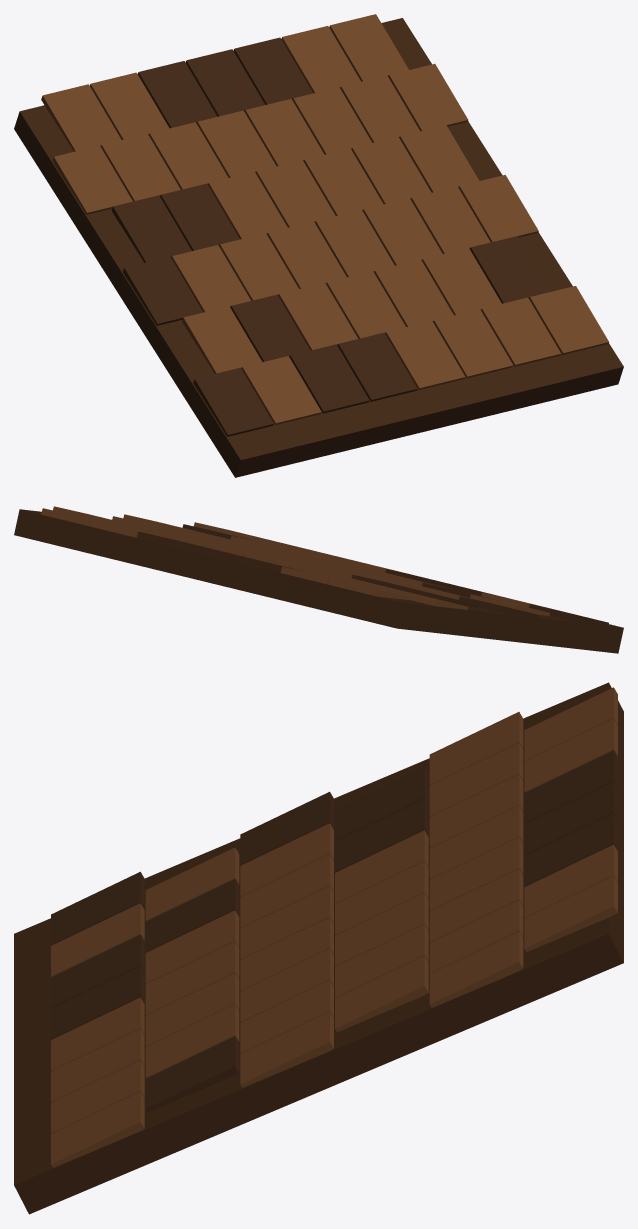
Rendered from SM_Roof_Shingle.obj.
The picture shows the model from 3 angles, top to bottom: view 1: azimuth 30°, elevation 25°; view 2: azimuth 150°, elevation 25°; view 3: azimuth 270°, elevation 25°; orthographic projection. The views are drawn at different scales.
Visible parts, largest first — view 1: SM_Roof_Shingle; view 2: SM_Roof_Shingle; view 3: SM_Roof_Shingle.
Part boxes in pixels (left/top/right/bottom): SM_Roof_Shingle: left=14, top=14, right=623, bottom=477; SM_Roof_Shingle: left=14, top=506, right=623, bottom=653; SM_Roof_Shingle: left=14, top=682, right=623, bottom=1214.
Size of the model in its own units: 2 by 1.08 by 2.05.
